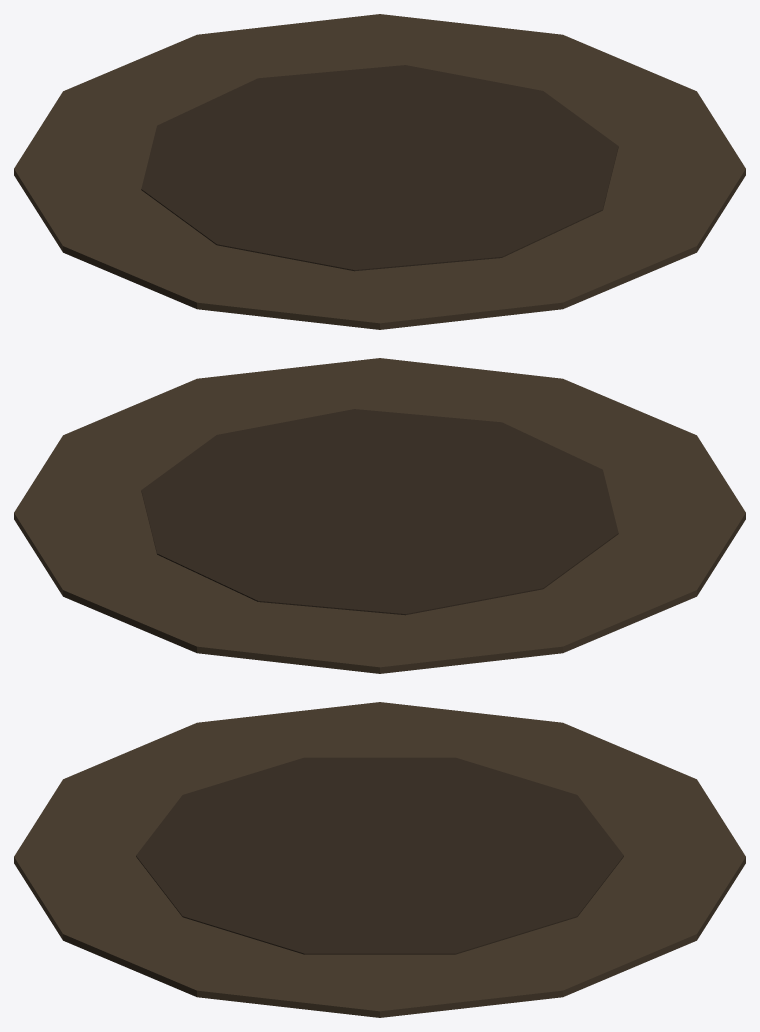
The model's file is s3_mud_pool.glb.
The picture shows the model from 3 angles, top to bottom: view 1: azimuth 30°, elevation 25°; view 2: azimuth 150°, elevation 25°; view 3: azimuth 270°, elevation 25°; orthographic projection.
Visible parts, largest first — view 1: s3_mud_pool; view 2: s3_mud_pool; view 3: s3_mud_pool.
Boxes of the visible parts, x1,y1,x2,y2 form: s3_mud_pool: (14,14,745,329); s3_mud_pool: (14,358,745,673); s3_mud_pool: (14,702,745,1017).
Bounding box in the file's own units: 3 × 0.035 × 3.
